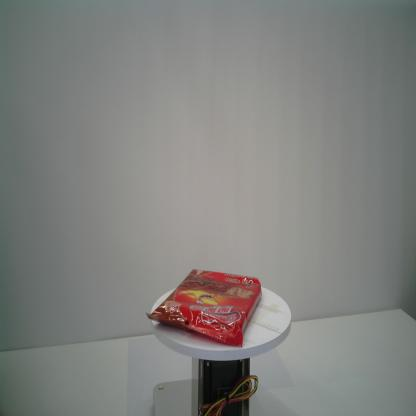Dessert: (145, 267, 263, 349)
